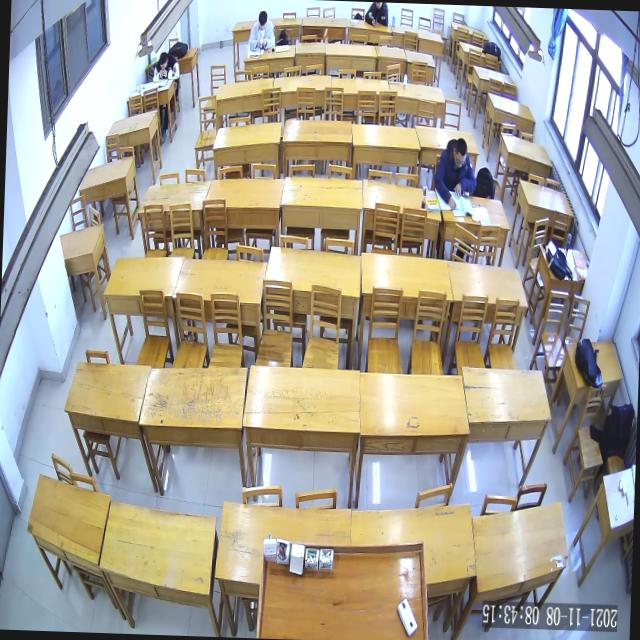bow: (152, 52, 180, 82)
down: (452, 137, 467, 169), (258, 10, 268, 30), (158, 51, 168, 70)
sit: (432, 136, 477, 210), (248, 10, 276, 51)
